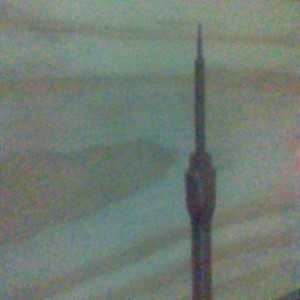solder: (183, 23, 218, 300)
